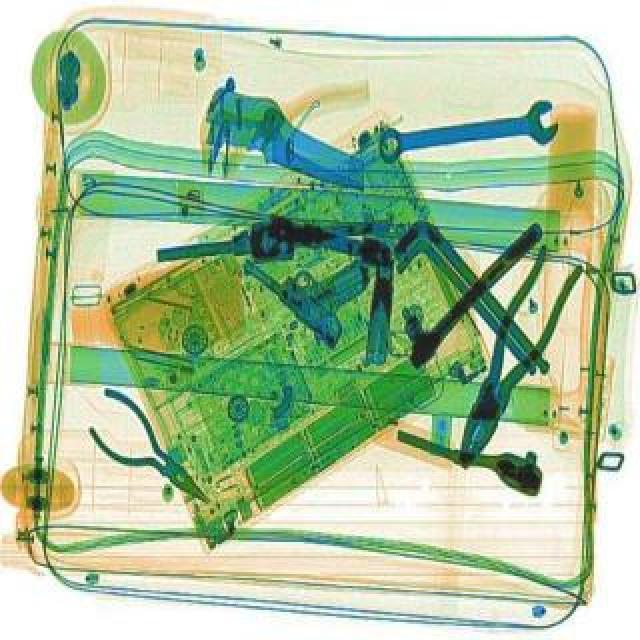gun: (232, 206, 396, 352)
scissors: (374, 96, 562, 168)
wrench: (434, 238, 586, 474), (68, 380, 226, 522)
